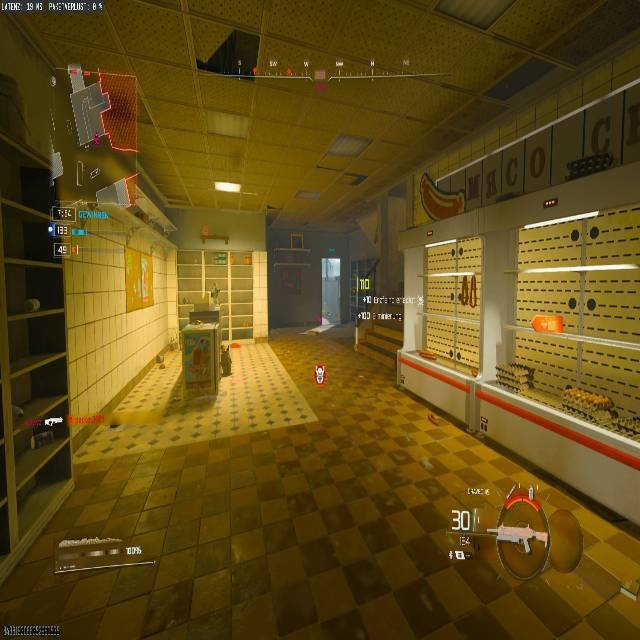player: (209, 283, 220, 307)
